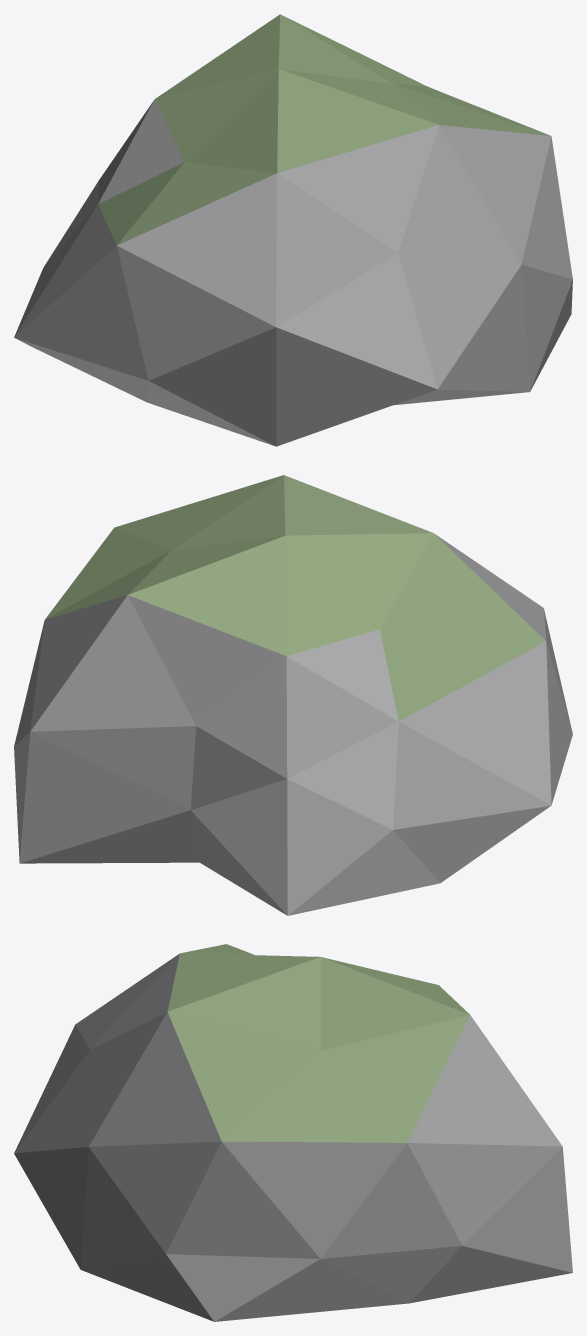
Rendered from rock1.glb.
3 renders of one model, top to bottom at view 1: azimuth 30°, elevation 25°; view 2: azimuth 150°, elevation 25°; view 3: azimuth 270°, elevation 25°, orthographic. The views are drawn at different scales.
Parts seen in each view (by area): view 1: rock1; view 2: rock1; view 3: rock1.
Boxes of the visible parts, bbox=[...] form: rock1: bbox=[14, 14, 572, 446]; rock1: bbox=[14, 475, 572, 915]; rock1: bbox=[14, 944, 572, 1321].
Bounding box in the file's own units: 2 × 1 × 2.
